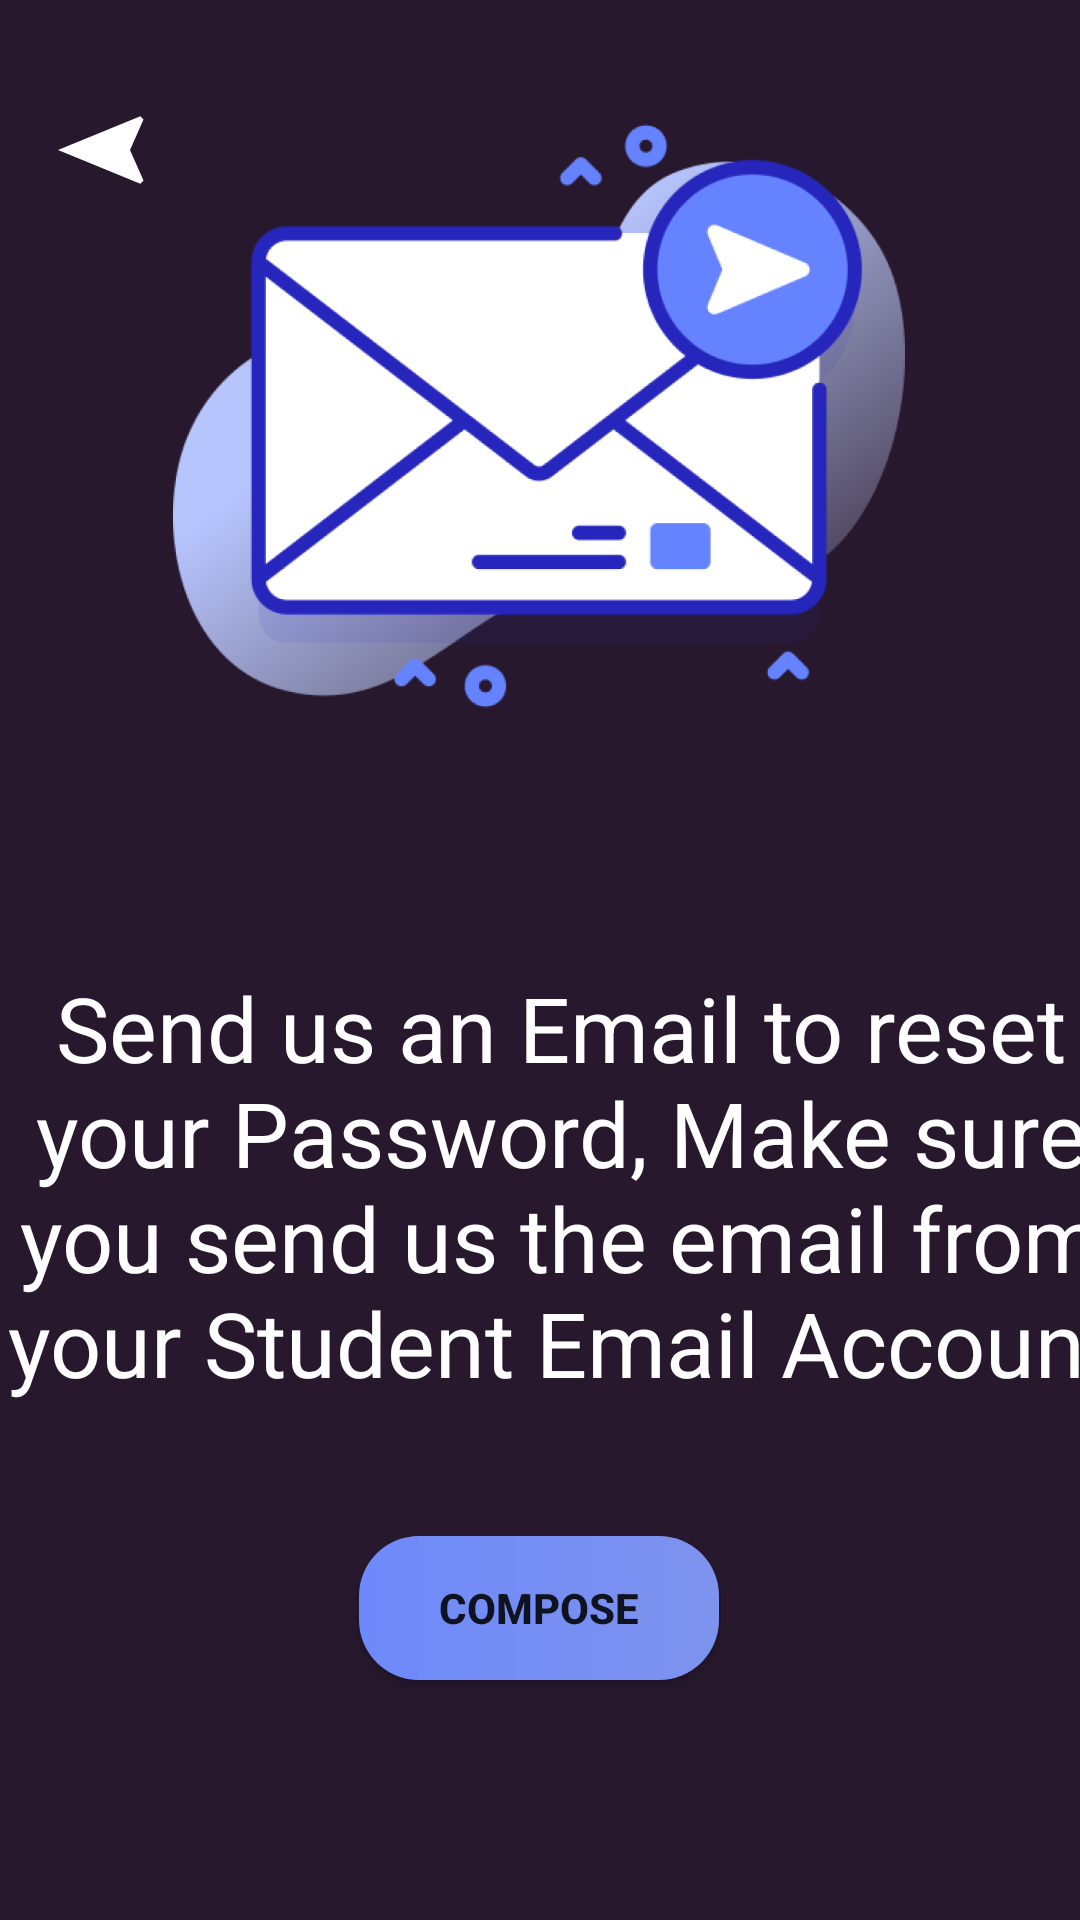

Screen size 1080x1920. Icon name, then its box in pixels as (x1, y1, x2, y2):
go back: (58, 116, 144, 184)
